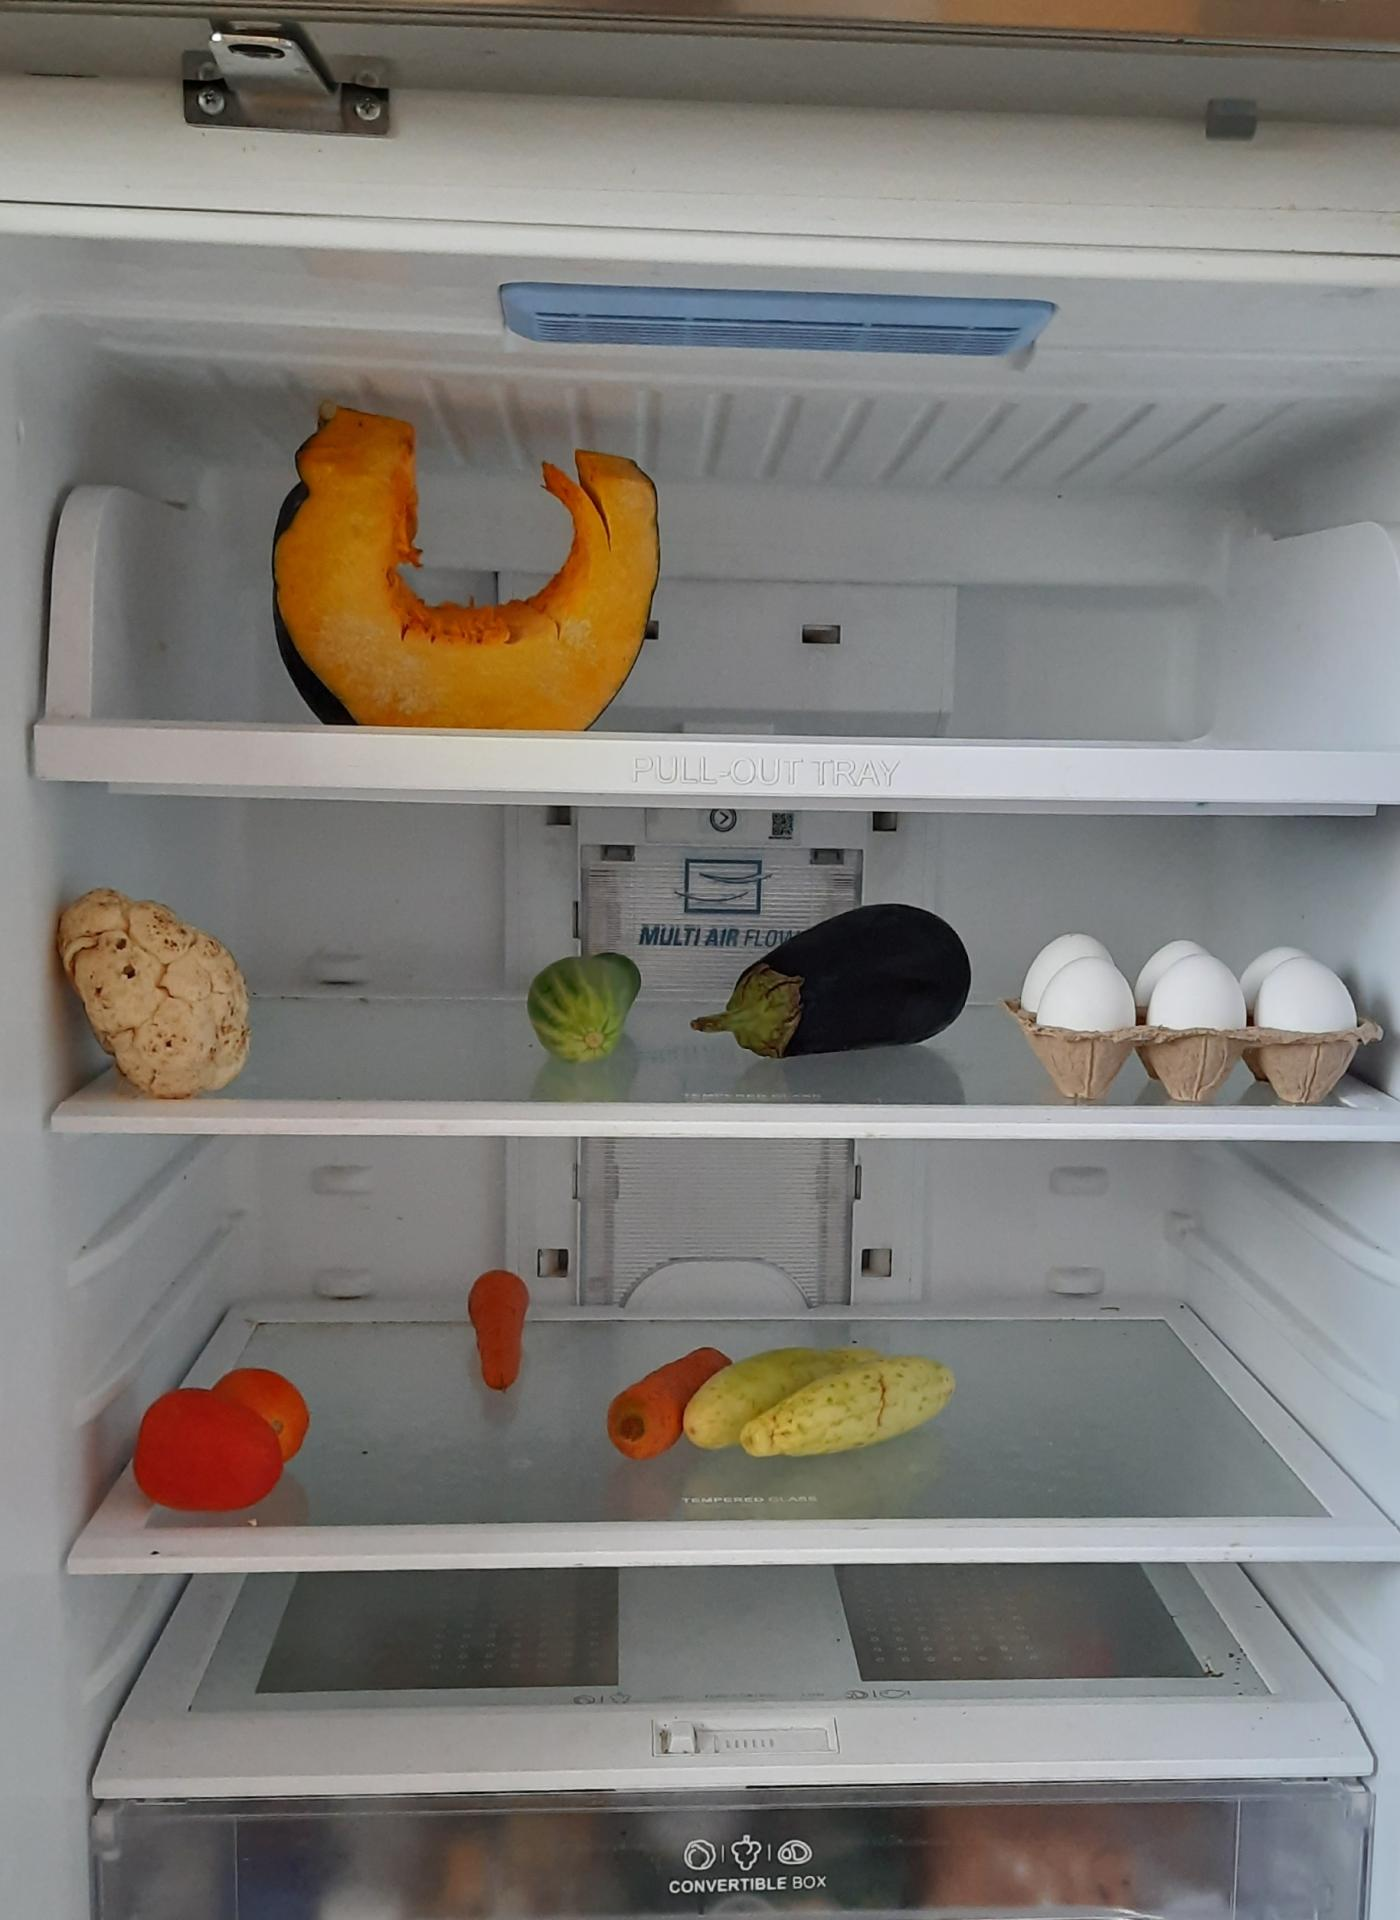brinjal: (689, 893, 987, 1066)
carrots: (604, 1339, 734, 1453), (465, 1270, 531, 1397)
cauliflower: (58, 896, 253, 1102)
cucumber: (686, 1346, 960, 1458), (526, 947, 644, 1061)
egg: (1023, 917, 1385, 1099)
pumpkin: (270, 410, 678, 741)
tomato: (134, 1373, 313, 1516)
